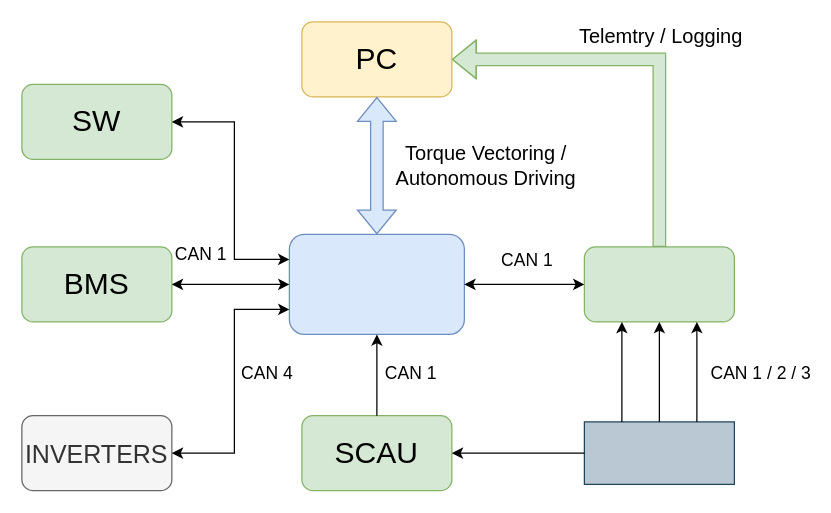
Some shapes in this 831 by 513 pixel diagram are drawn without their labels. The centre of each missing label's shape, as x and y in pixels:
"DCU" goes at [658,284].
"Sensors" goes at [658,452].
"VCU" goes at [376,283].
